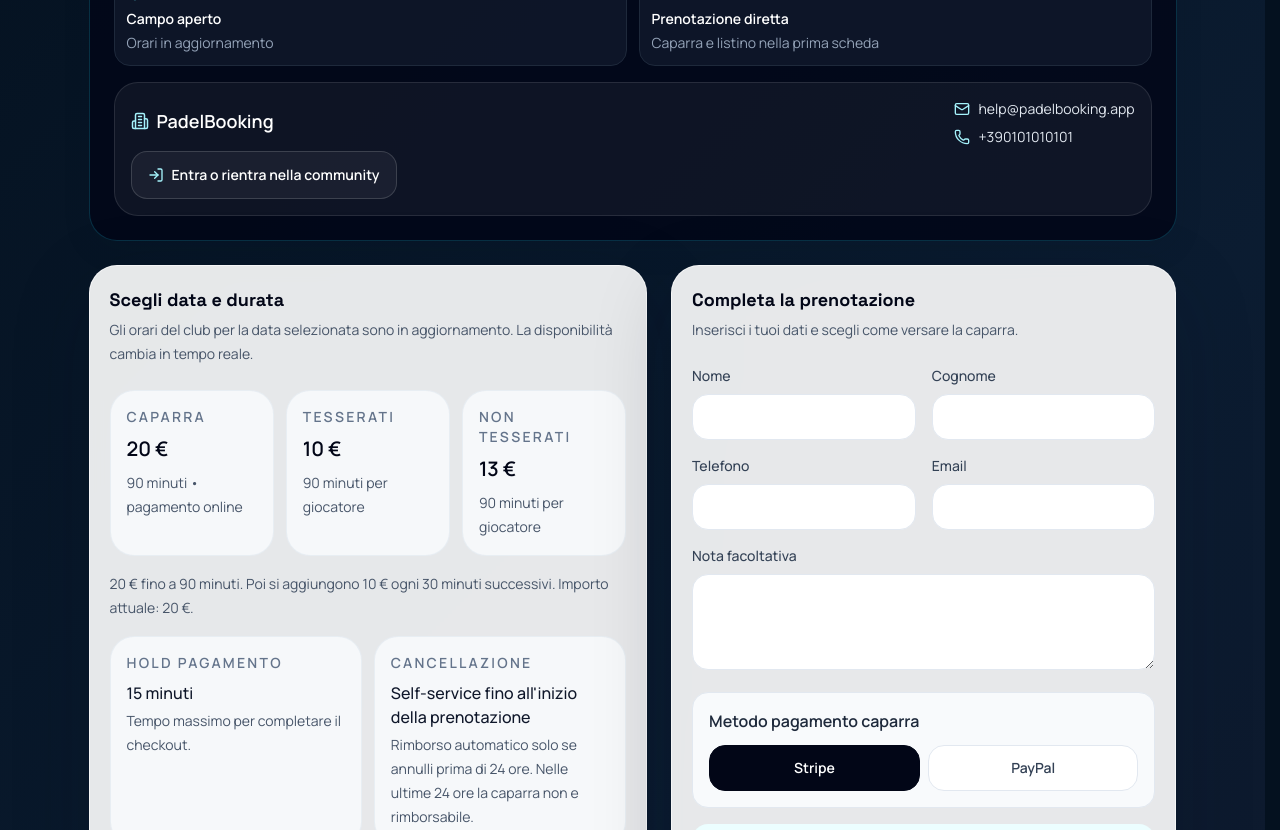
Test: PublicBookingPage › shows a clear validation message when the user submits without selecting a slot
The width and height of the screenshot is (1280, 830).
(page scrolled)
Expected: the text "15 minuti" is shown, [126,682,193,704]
In the field labelled "Nome": x=804, y=417 [692,394,916,440], type "Luca"
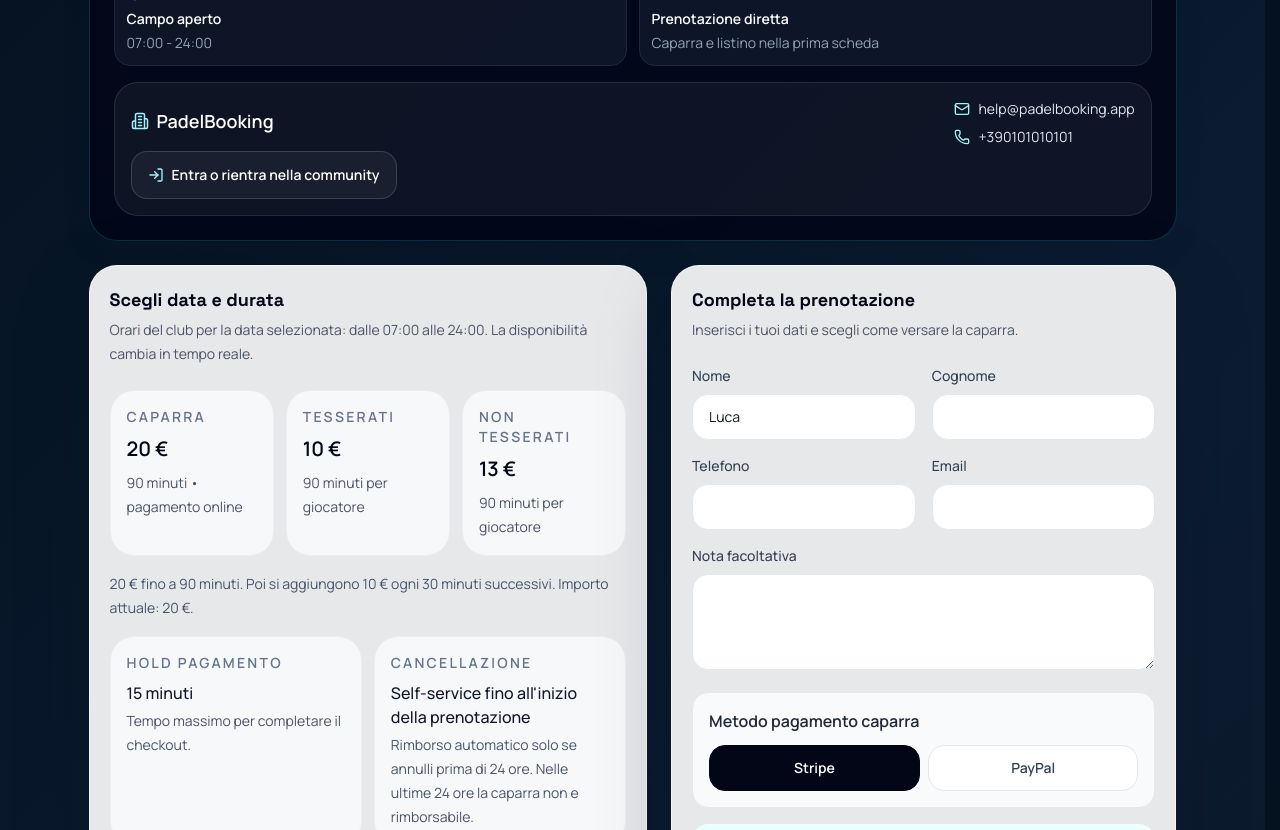
In the field labelled "Cognome": x=1044, y=417 [932,394,1156,440], type "Bianchi"
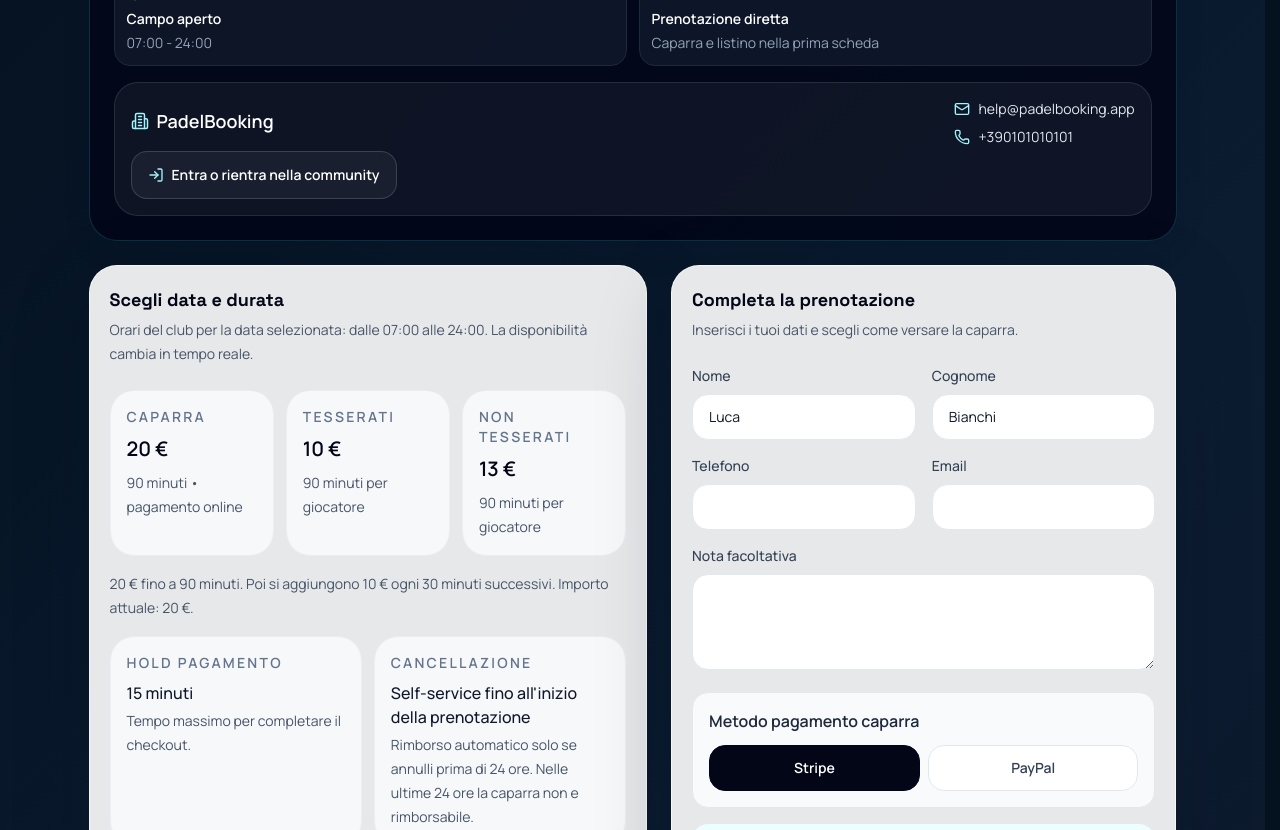
In the field labelled "Telefono": x=804, y=507 [692,484,916,530], type "3331112222"
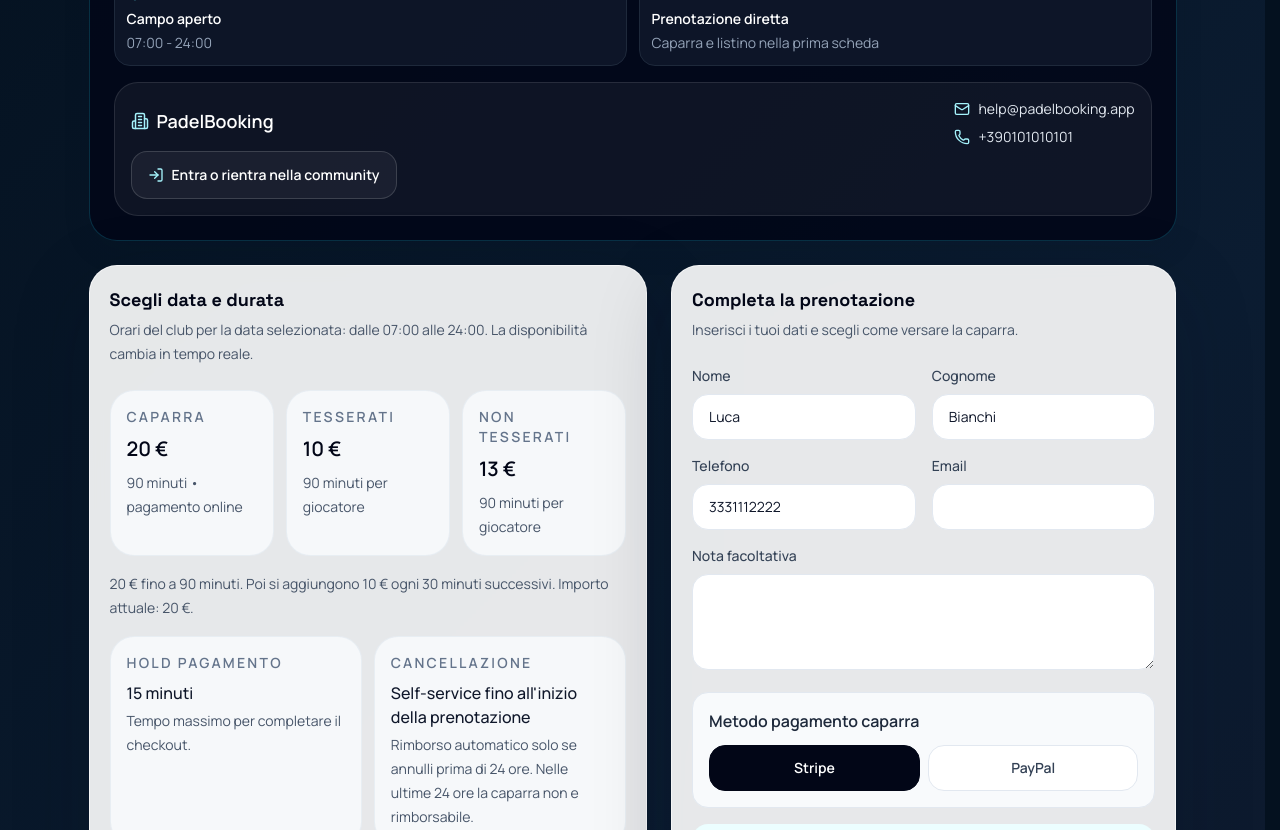
In the field labelled "Email": x=1044, y=507 [932,484,1156,530], type "luca@example.com"
(page scrolled)
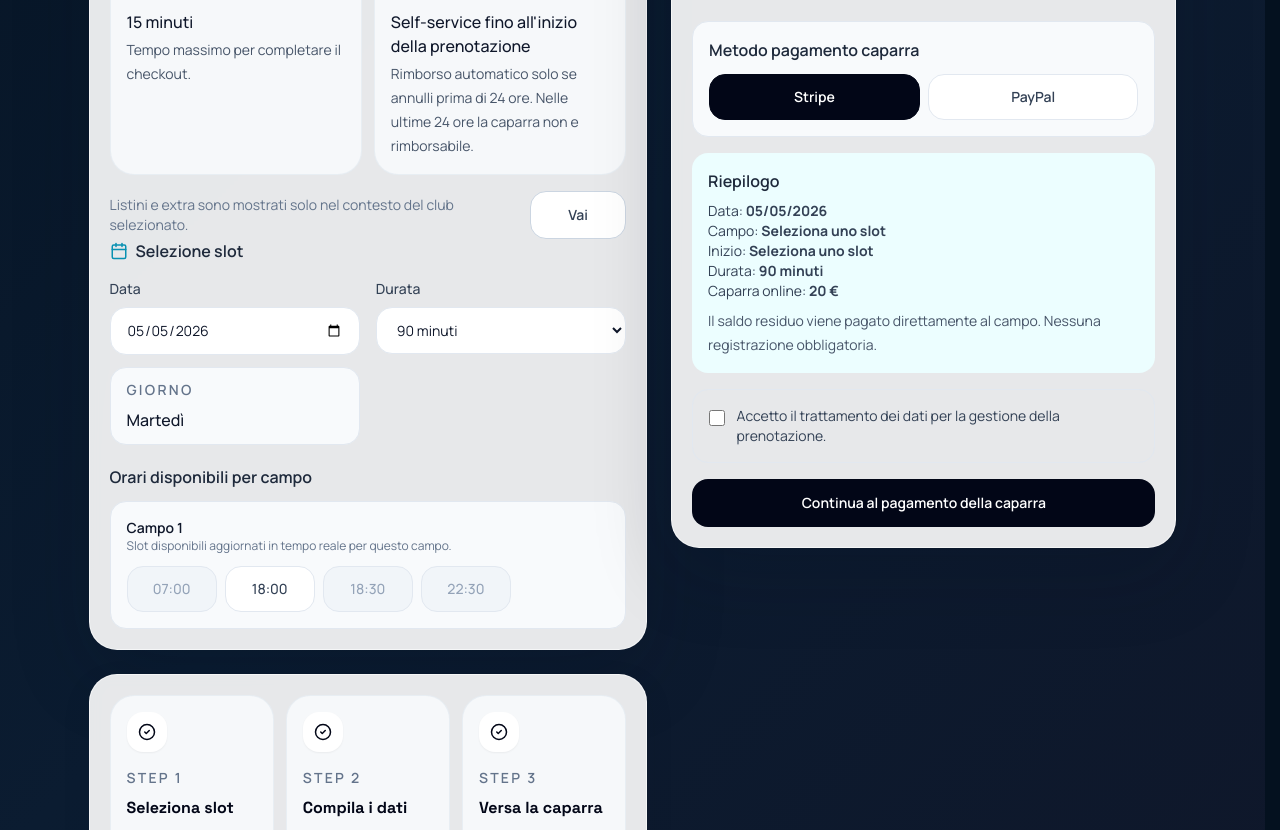
Click the checkbox labelled "Accetto il trattamento dei dati per la gestione della prenotazione.": x=717, y=418 [709,410,725,426]
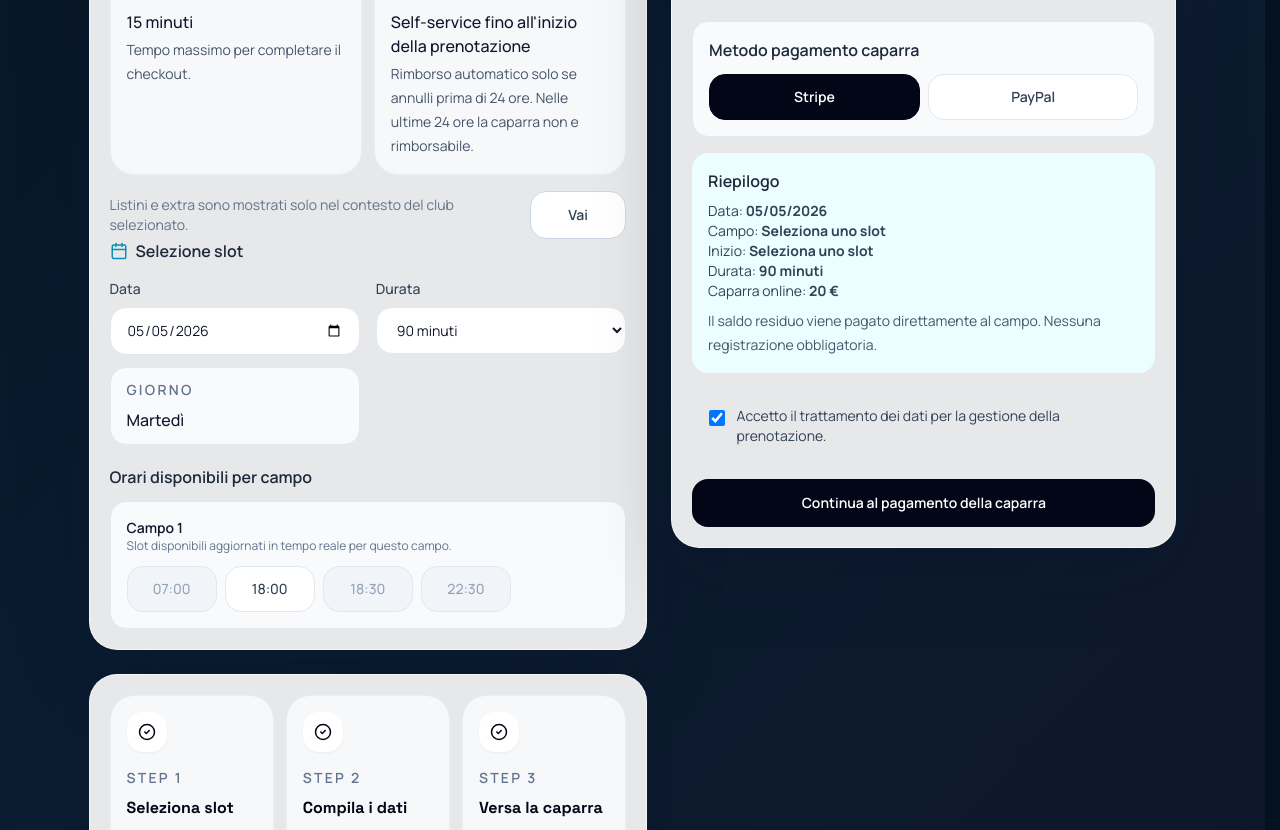
Click the button "Continua al pagamento della caparra": x=924, y=503 [692,479,1156,527]
(page scrolled)
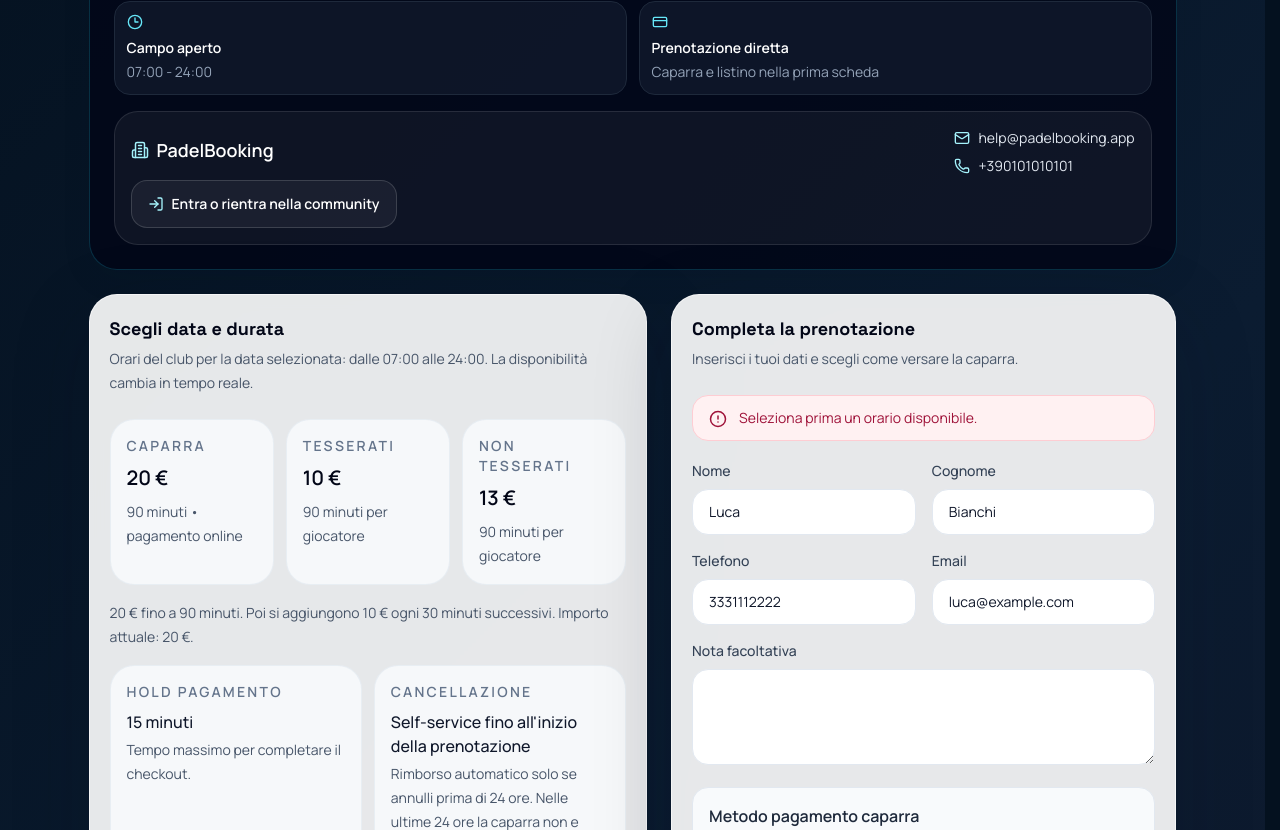
Result: the text "Seleziona prima un orario disponibile." is shown at [739,408,977,428]
